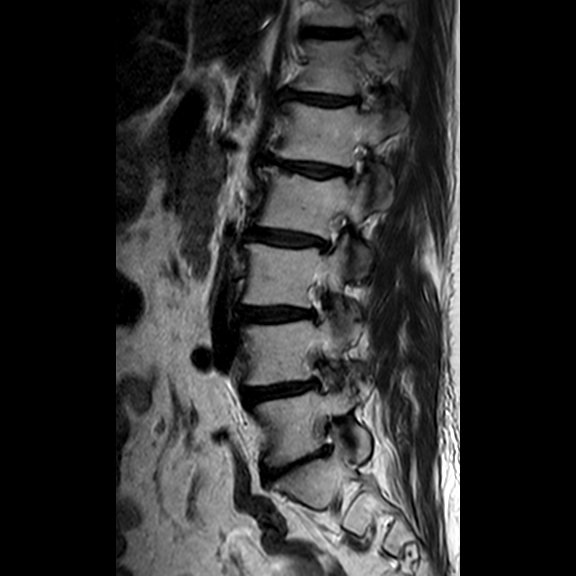RFS0: (336, 135, 381, 195)
